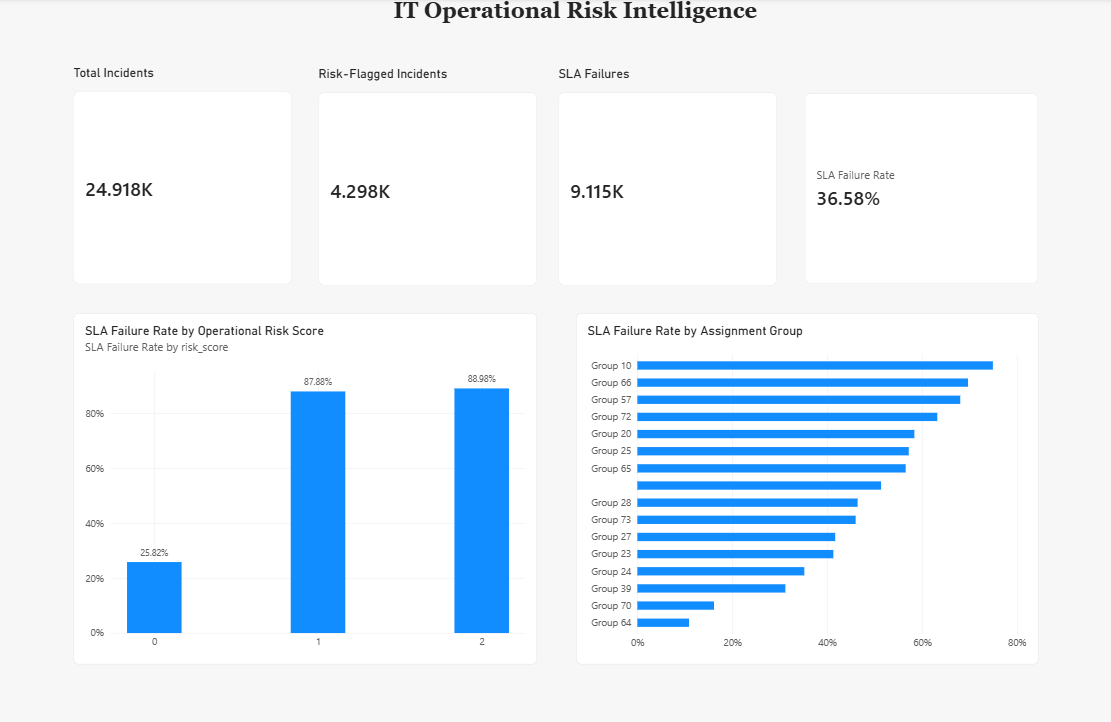

This screenshot's page, from the dashboard's own definition file:
{"tool":"powerbi","page":{"name":"Page 1","canvas":[1920,1080],"ordinal":0},"visuals":[{"type":"cardVisual","title":"Total Incidents","fields":{"Data":["CountNonNull(incident_risk_analysis.number)"]},"box":[257,97.7,317,317],"z":0},{"type":"cardVisual","title":"Risk-Flagged Incidents","fields":{"Data":["CountNonNull(incident_risk_analysis.number)"]},"box":[611.7,99.5,317,317],"z":1000},{"type":"cardVisual","title":"SLA Failures","fields":{"Data":["CountNonNull(incident_risk_analysis.number)"]},"box":[959.1,99.5,317,317],"z":2000},{"type":"cardVisual","fields":{"Data":["incident_risk_analysis.SLA Failure Rate"]},"box":[1315.6,137.5,338.4,276.9],"z":2001},{"type":"clusteredColumnChart","title":"SLA Failure Rate by Operational Risk Score","fields":{"Category":["incident_risk_analysis.risk_score"],"Y":["incident_risk_analysis.SLA Failure Rate"]},"box":[257,456,671.4,508.5],"z":2002},{"type":"clusteredBarChart","title":"SLA Failure Rate by Assignment Group","fields":{"Category":["incident_risk_analysis.assignment_group"],"Y":["incident_risk_analysis.SLA Failure Rate"]},"box":[984.5,456,669.6,508.5],"z":2004},{"type":"textbox","box":[150,849,300,231],"z":2005},{"type":"textbox","box":[571.9,0,823.4,56.1],"z":2006}]}

Visuals, with their boxes on the page's 1920x1080 design canvas (x1, y1, x2, y2). These are canvas units, not pixel positions in the 1111x722 screenshot, which may show the page scaled, cropped or inside an application window:
"Total Incidents" cardVisual: select_region(257, 98, 574, 415)
"Risk-Flagged Incidents" cardVisual: select_region(612, 100, 929, 416)
"SLA Failures" cardVisual: select_region(959, 100, 1276, 416)
cardVisual - incident_risk_analysis.SLA Failure Rate: select_region(1316, 138, 1654, 414)
"SLA Failure Rate by Operational Risk Score" clusteredColumnChart: select_region(257, 456, 928, 964)
"SLA Failure Rate by Assignment Group" clusteredBarChart: select_region(984, 456, 1654, 964)
textbox: select_region(150, 849, 450, 1080)
textbox: select_region(572, 0, 1395, 56)
